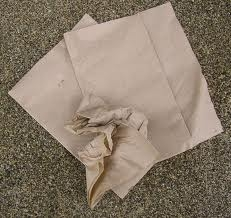paper: (65, 7, 227, 162), (7, 12, 126, 200), (62, 90, 164, 209)
